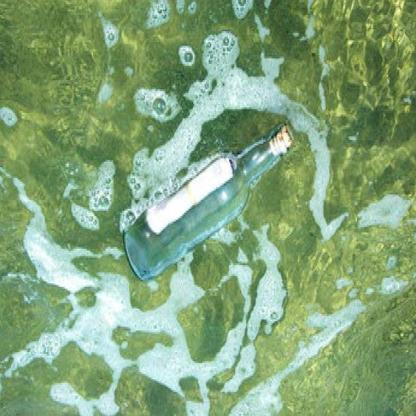plastic bottle: (122, 124, 293, 279)
